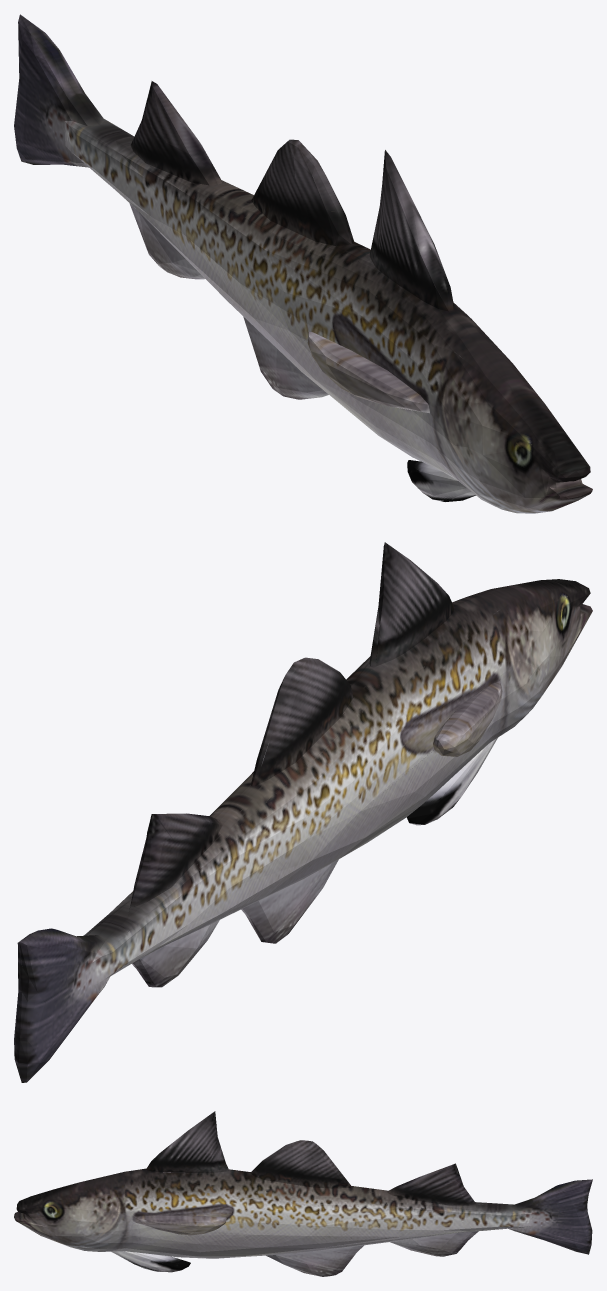
File: Alaska Pollock.obj
3 views of the same model, one above another, from view 1: azimuth 30°, elevation 25°; view 2: azimuth 150°, elevation 25°; view 3: azimuth 270°, elevation 25° (orthographic). The views are drawn at different scales.
Parts seen in each view (by area): view 1: Base_Texture.001; view 2: Base_Texture.001; view 3: Base_Texture.001.
Boxes of the visible parts, left/top/right/bottom form: Base_Texture.001: left=14, top=14, right=592, bottom=513; Base_Texture.001: left=14, top=542, right=592, bottom=1082; Base_Texture.001: left=14, top=1111, right=592, bottom=1276.
Size of the model in its own units: 0.9393 by 1.99 by 6.31.
1 material, 1 textured.
